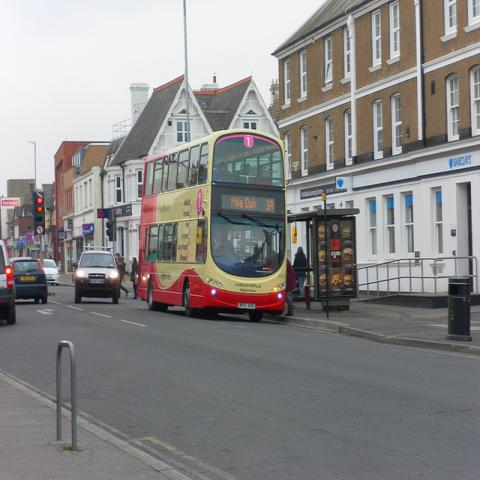bus: (138, 130, 286, 320)
car: (73, 245, 121, 308), (10, 256, 48, 305), (0, 239, 16, 328), (42, 258, 60, 287)
